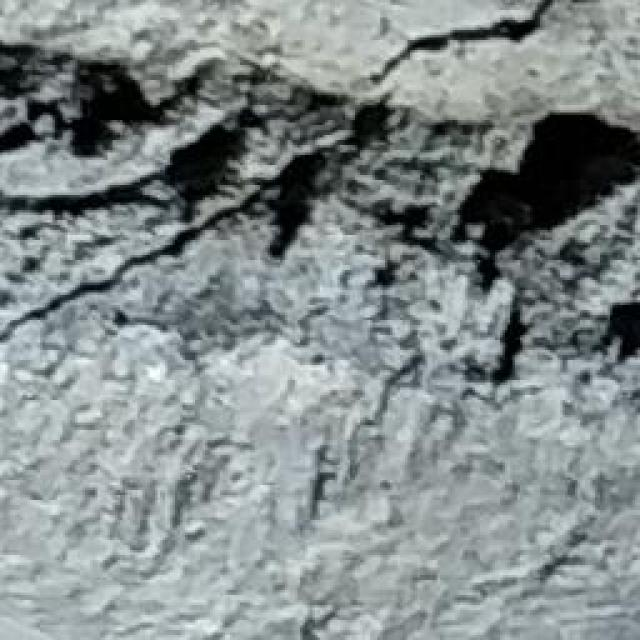Diagonal: (0, 0, 550, 350)
